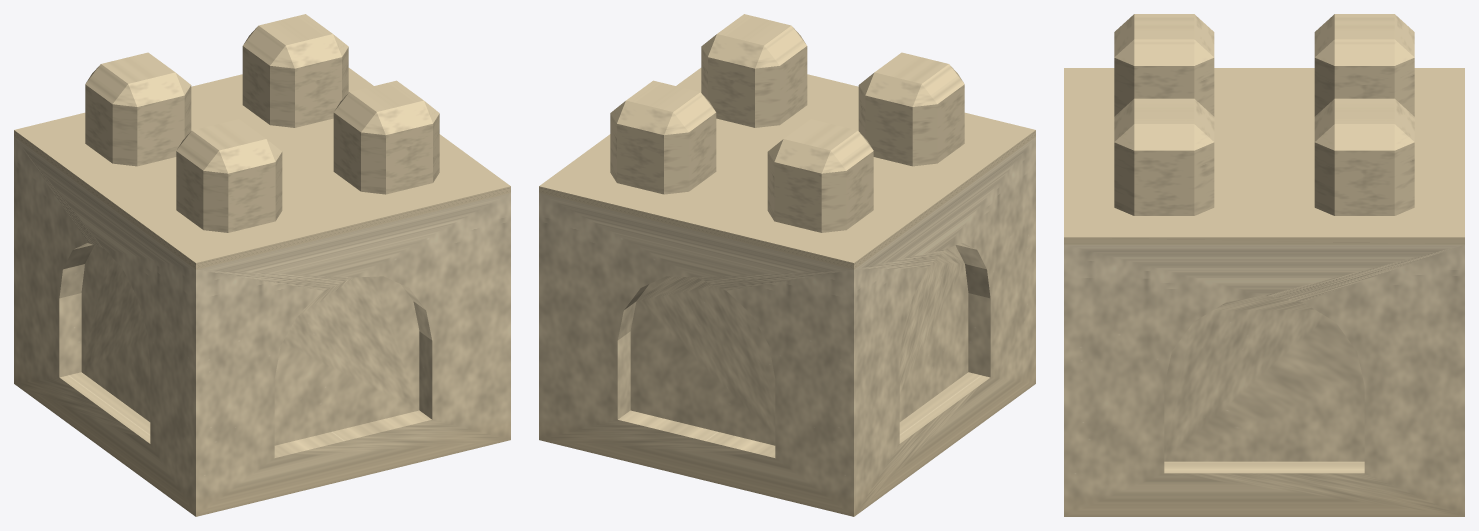
The model's file is wall_arch.glb.
The picture shows the model from 3 angles, left to right: view 1: azimuth 30°, elevation 25°; view 2: azimuth 150°, elevation 25°; view 3: azimuth 270°, elevation 25°; orthographic projection. The views are drawn at different scales.
Visible parts, largest first — view 1: wall, merlons, deck; view 2: wall, merlons, deck; view 3: wall, deck, merlons.
Part boxes in pixels (left/top/right/bottom): wall: left=14, top=137, right=510, bottom=516; merlons: left=85, top=14, right=439, bottom=232; deck: left=14, top=68, right=510, bottom=269; wall: left=539, top=137, right=1035, bottom=516; merlons: left=610, top=14, right=964, bottom=232; deck: left=539, top=68, right=1035, bottom=269; wall: left=1064, top=244, right=1464, bottom=516; deck: left=1064, top=68, right=1464, bottom=244; merlons: left=1114, top=14, right=1414, bottom=215.
Size of the model in its own units: 1 by 1 by 1.
3 materials, 3 textured.
